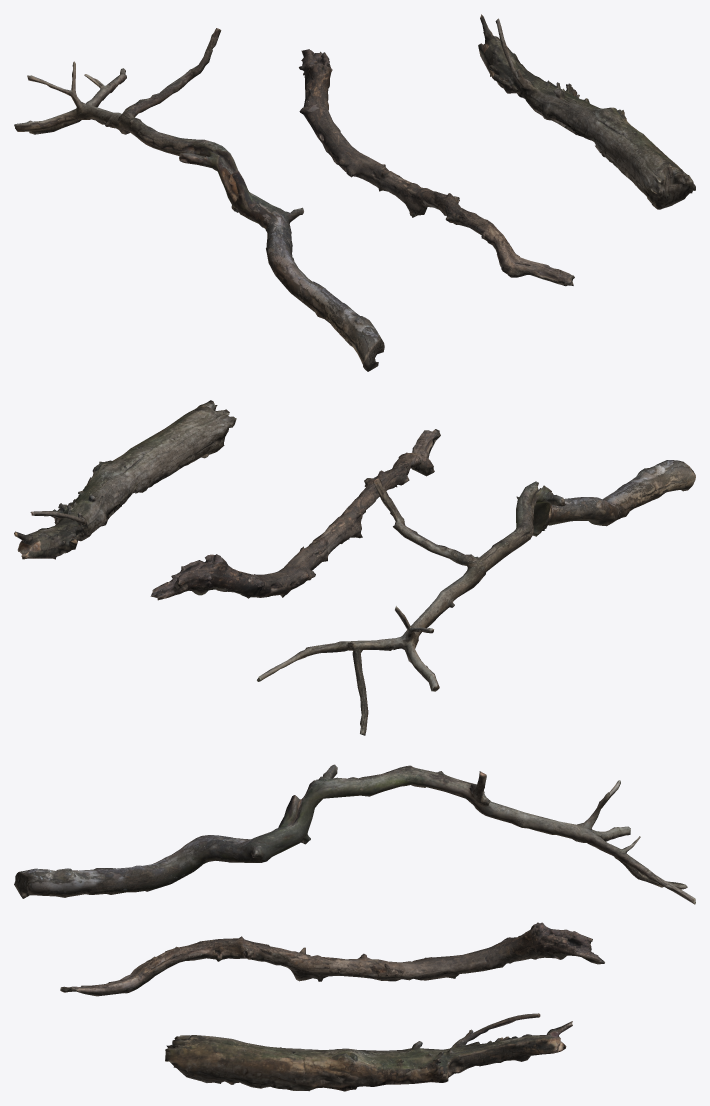
File: branches_dry.glb
The picture shows the model from 3 angles, top to bottom: view 1: azimuth 30°, elevation 25°; view 2: azimuth 150°, elevation 25°; view 3: azimuth 270°, elevation 25°; orthographic projection. The views are drawn at different scales.
Parts seen in each view (by area): view 1: dry_branches_medium_01_a, dry_branches_medium_01_c, dry_branches_medium_01_b; view 2: dry_branches_medium_01_a, dry_branches_medium_01_c, dry_branches_medium_01_b; view 3: dry_branches_medium_01_a, dry_branches_medium_01_c, dry_branches_medium_01_b.
Part boxes in pixels (x1,y1,x2,y2): dry_branches_medium_01_a: [14, 28, 384, 371]; dry_branches_medium_01_c: [478, 14, 695, 209]; dry_branches_medium_01_b: [299, 49, 574, 286]; dry_branches_medium_01_a: [257, 460, 695, 735]; dry_branches_medium_01_c: [14, 400, 236, 559]; dry_branches_medium_01_b: [150, 429, 440, 600]; dry_branches_medium_01_a: [14, 764, 695, 904]; dry_branches_medium_01_c: [165, 1013, 572, 1091]; dry_branches_medium_01_b: [60, 922, 604, 996].
Bounding box in the file's own units: 1.79 × 0.5774 × 2.2.
1 material, 1 textured.
